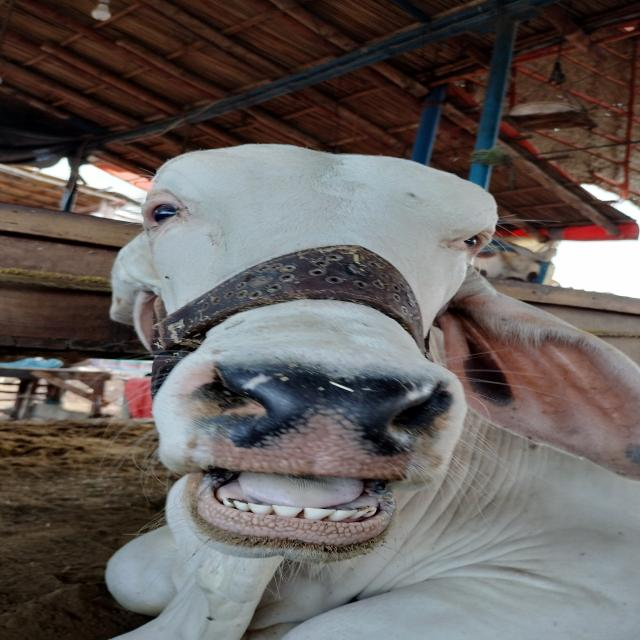muzzles: (167, 347, 458, 487)
